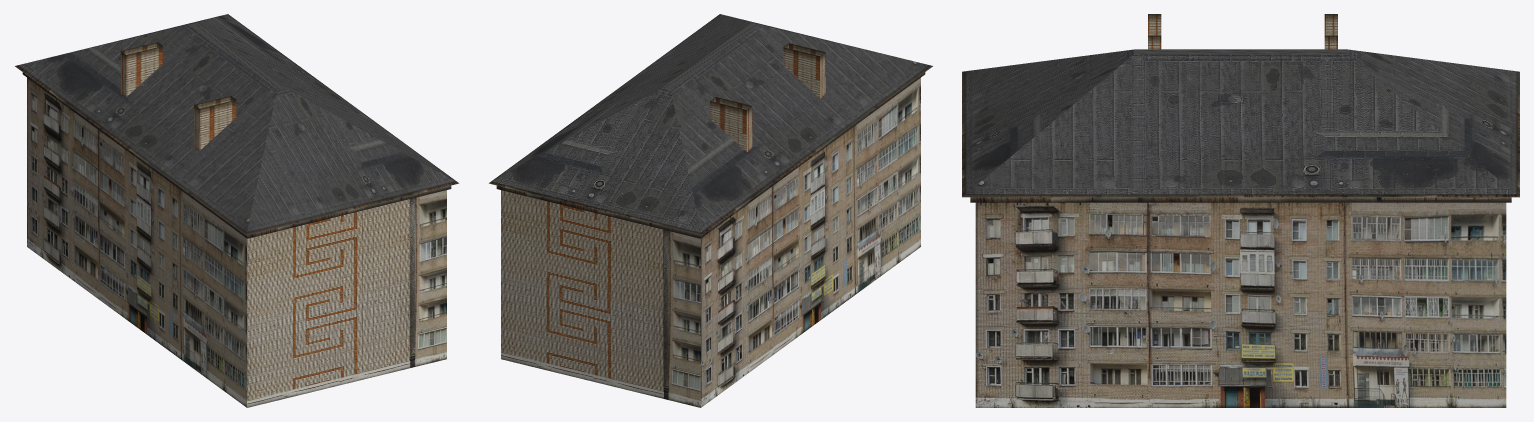
Rendered from sibir_dom_5et3.FBX.
The picture shows the model from 3 angles, left to right: view 1: azimuth 30°, elevation 25°; view 2: azimuth 150°, elevation 25°; view 3: azimuth 270°, elevation 25°; orthographic projection. The views are drawn at different scales.
Visible parts, largest first — view 1: sibir_dom_5et3; view 2: sibir_dom_5et3; view 3: sibir_dom_5et3.
Boxes of the visible parts, <box> form: sibir_dom_5et3: <box>15,14,458,407</box>; sibir_dom_5et3: <box>489,14,932,407</box>; sibir_dom_5et3: <box>962,14,1519,407</box>.
Bounding box in the file's own units: 10.27 × 19.29 × 11.34.
